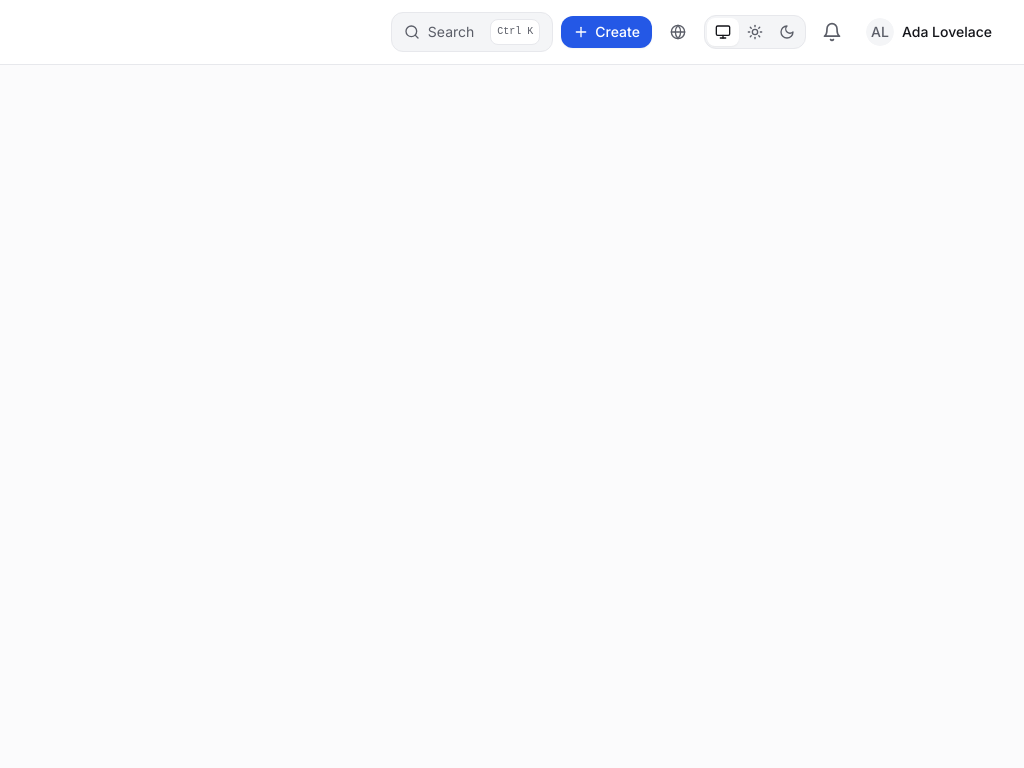
Test: MarketingHeader — edit profile / phone + SMS-2FA currentPassword gate › surfaces a backend "incorrect password" 400 next to the field, not as a toast
Click the text "Ada Lovelace".
click(947, 32)  # box x1=902 y1=22 x2=992 y2=42
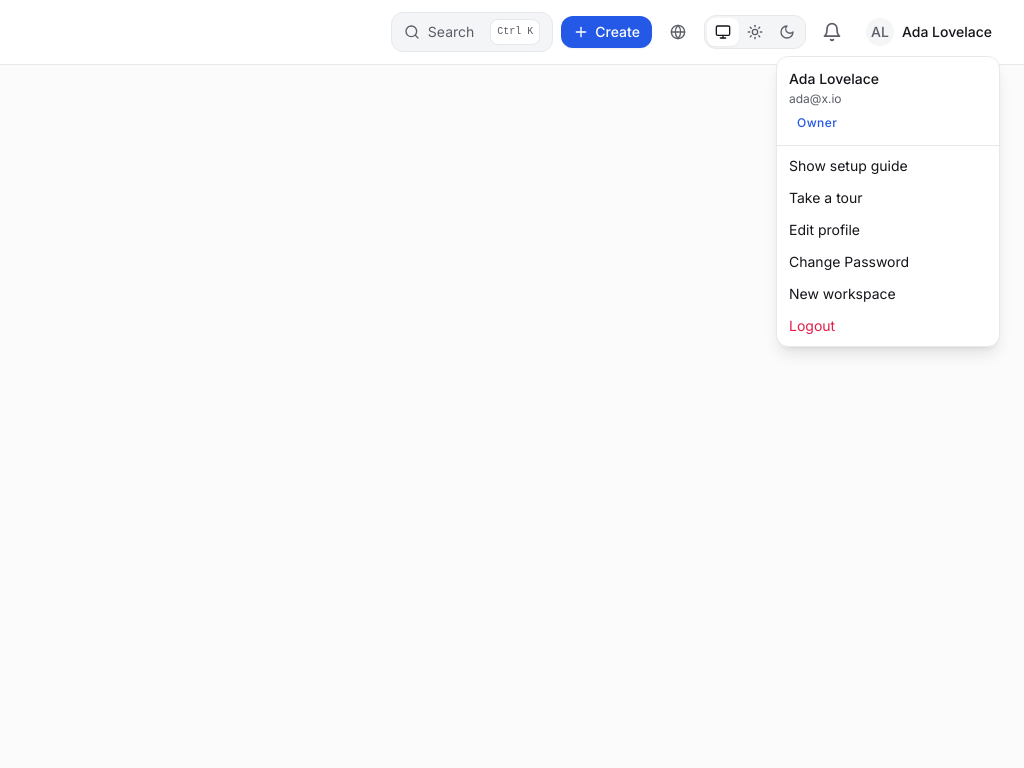
Click the menu item "Edit profile".
click(824, 230)  # box x1=789 y1=221 x2=860 y2=238
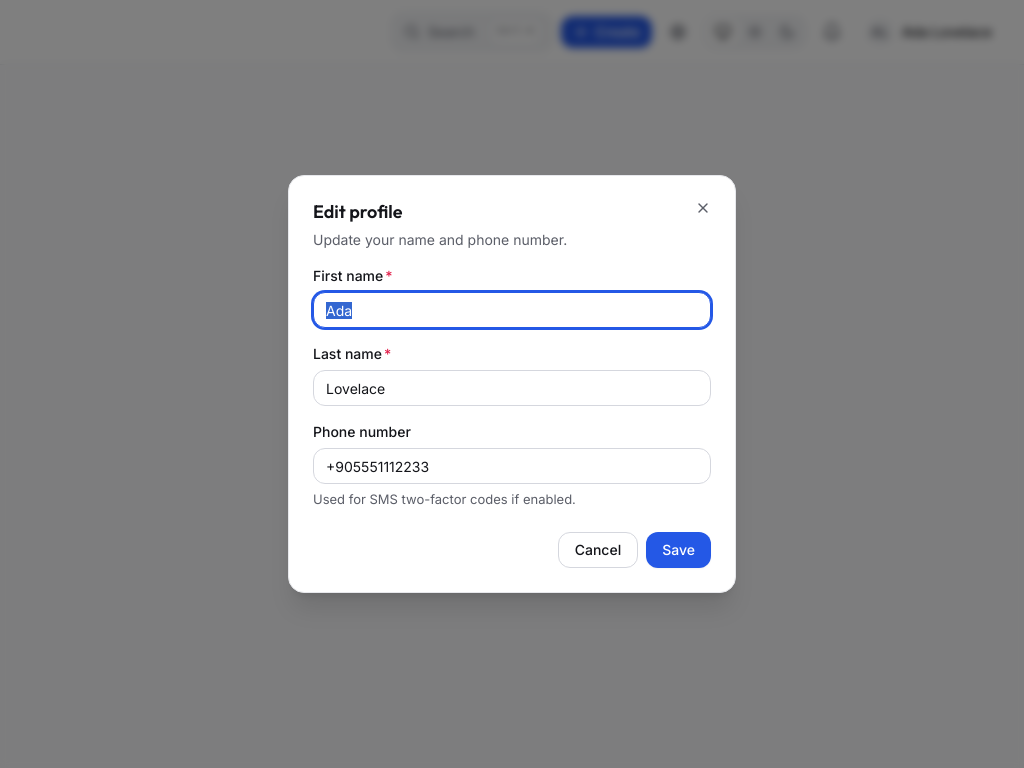
Result: the field labelled "First name*" is shown at x1=313 y1=292 x2=711 y2=328
Clear the field with placeholder "+905XXXXXXXXX" at point(512, 466), box x1=313 y1=448 x2=711 y2=484
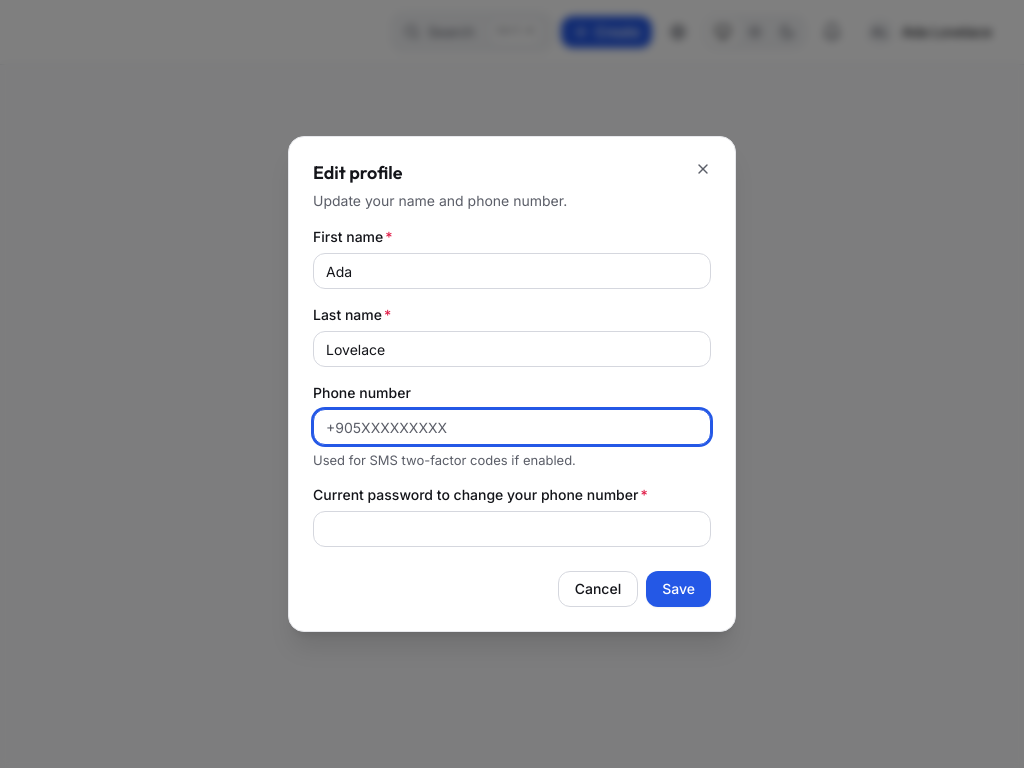
Type "+905559998877" into the field with placeholder "+905XXXXXXXXX".
click(512, 427); type("+905559998877")  # box x1=313 y1=409 x2=711 y2=445
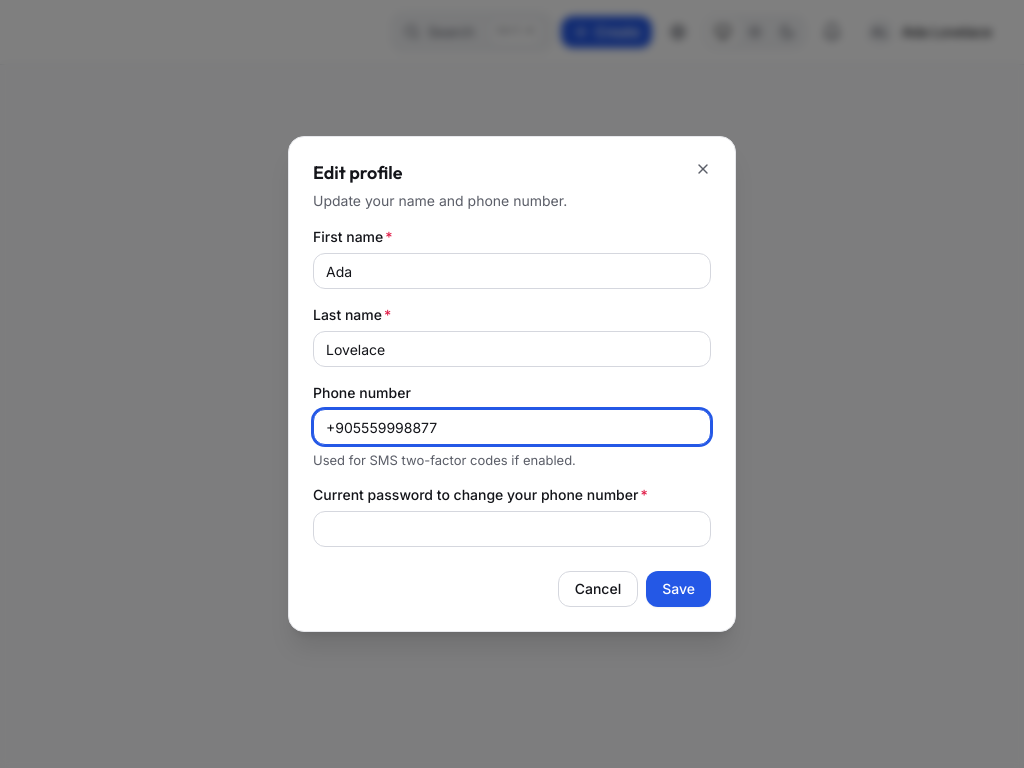
Type "wrong-password" into the password field labelled "Current password to change your phone number*".
click(512, 529); type("wrong-password")  # box x1=313 y1=511 x2=711 y2=547
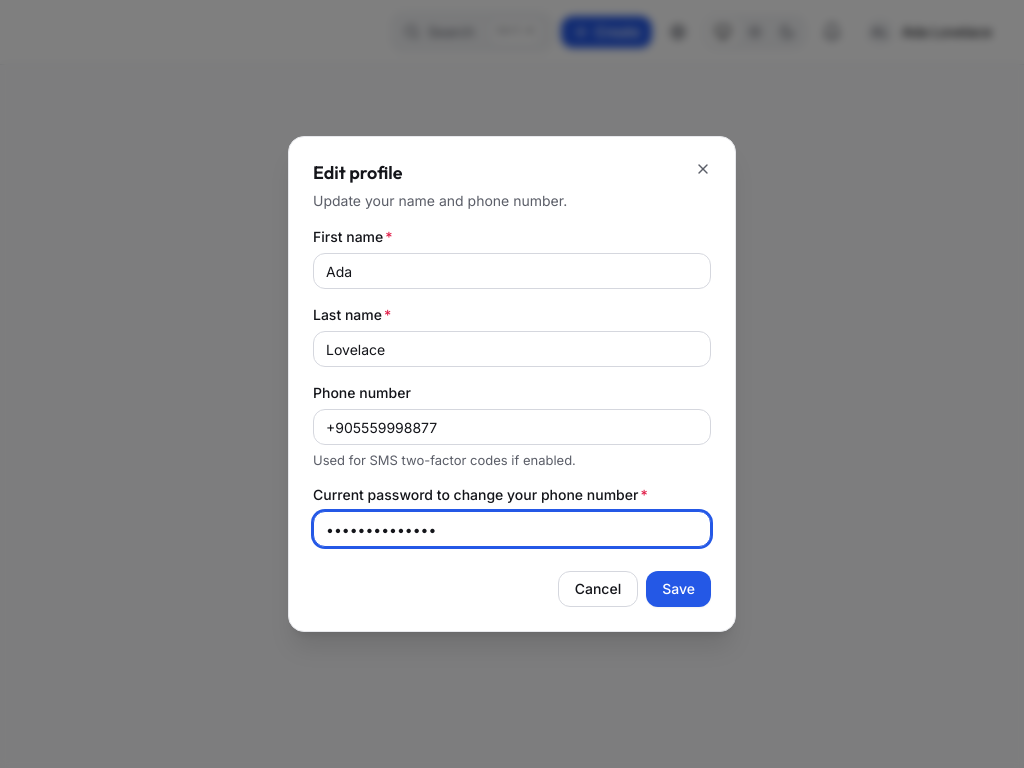
Click the button "Save".
click(679, 589)  # box x1=646 y1=571 x2=711 y2=607
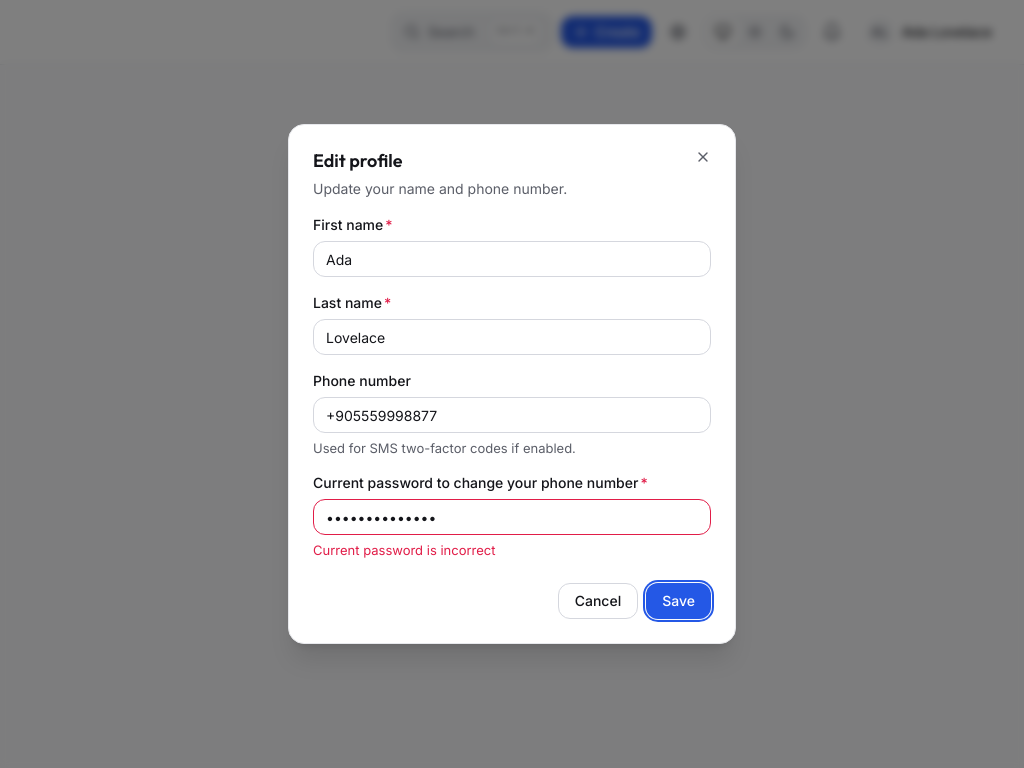
Result: the text "Current password is incorrect" is shown at x1=313 y1=542 x2=496 y2=558
